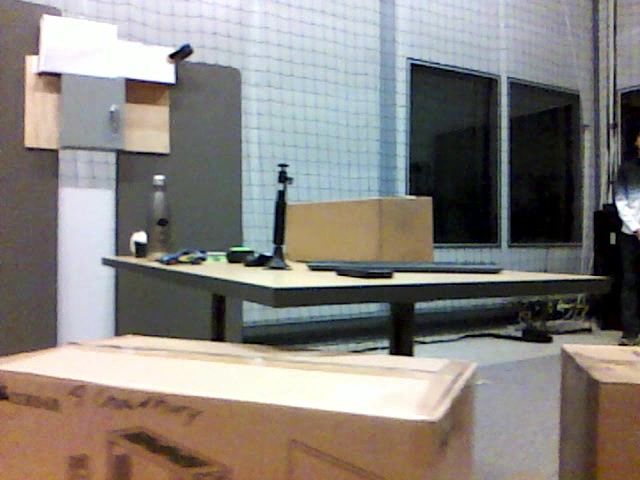box: (1, 335, 475, 480), (560, 340, 640, 476), (288, 198, 433, 261)
